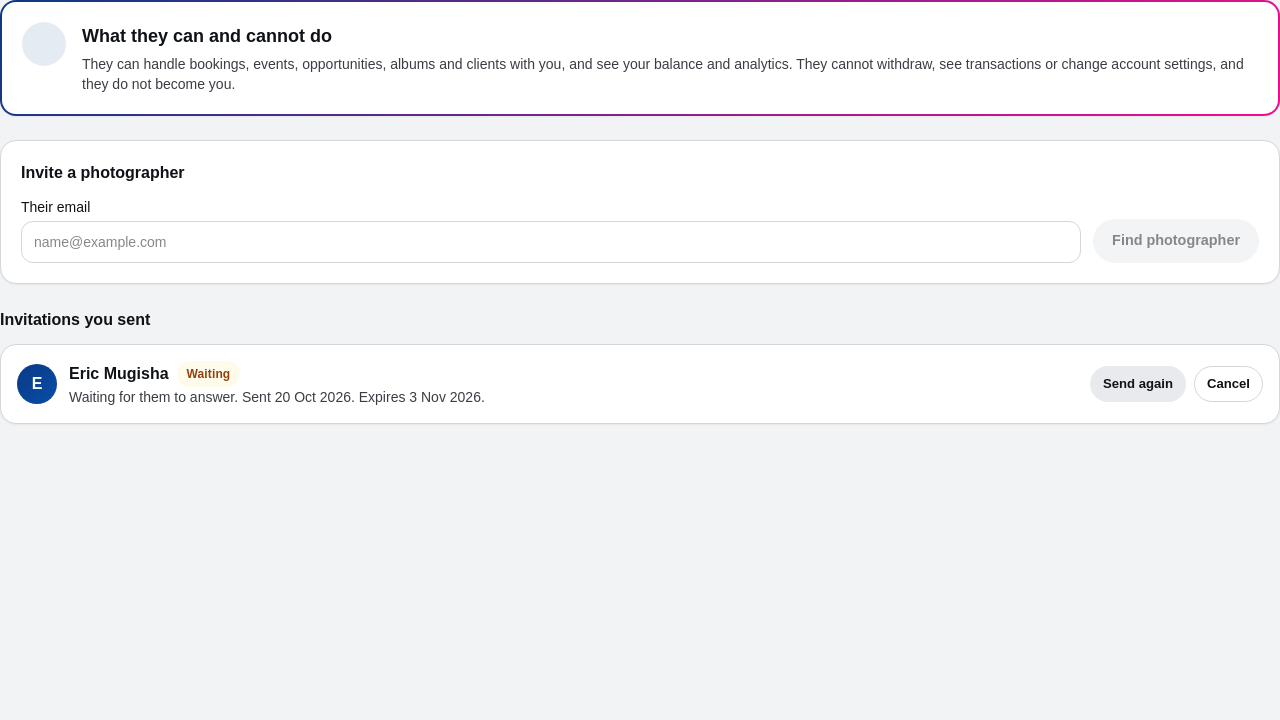
Scenario: workspace access tab › asks before cancelling and only then asks the server
Click the button "Cancel".
click(1228, 384)  # box left=1194, top=366, right=1263, bottom=402
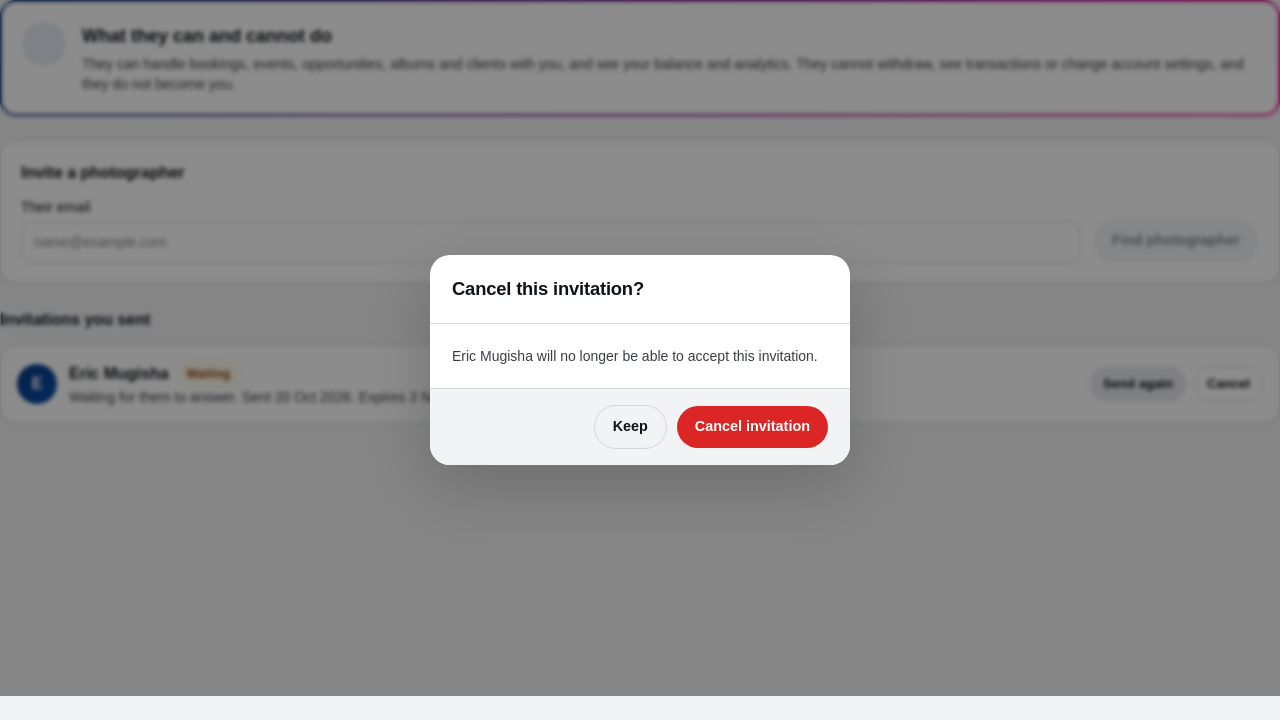
Check: the text "Cancel this invitation?" is shown, box left=452, top=278, right=644, bottom=299
Click the button "Cancel invitation".
click(752, 427)  # box left=677, top=406, right=828, bottom=448
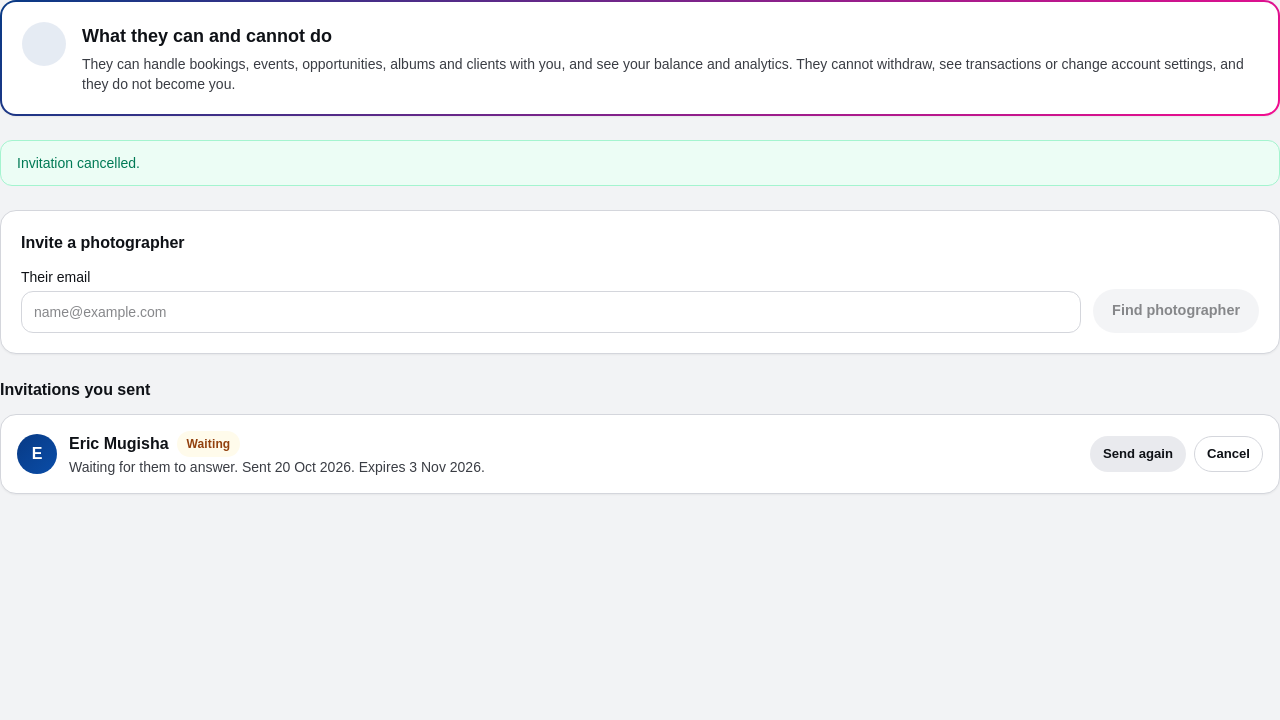
Check: the text "Invitation cancelled." is shown, box left=0, top=140, right=1279, bottom=186
